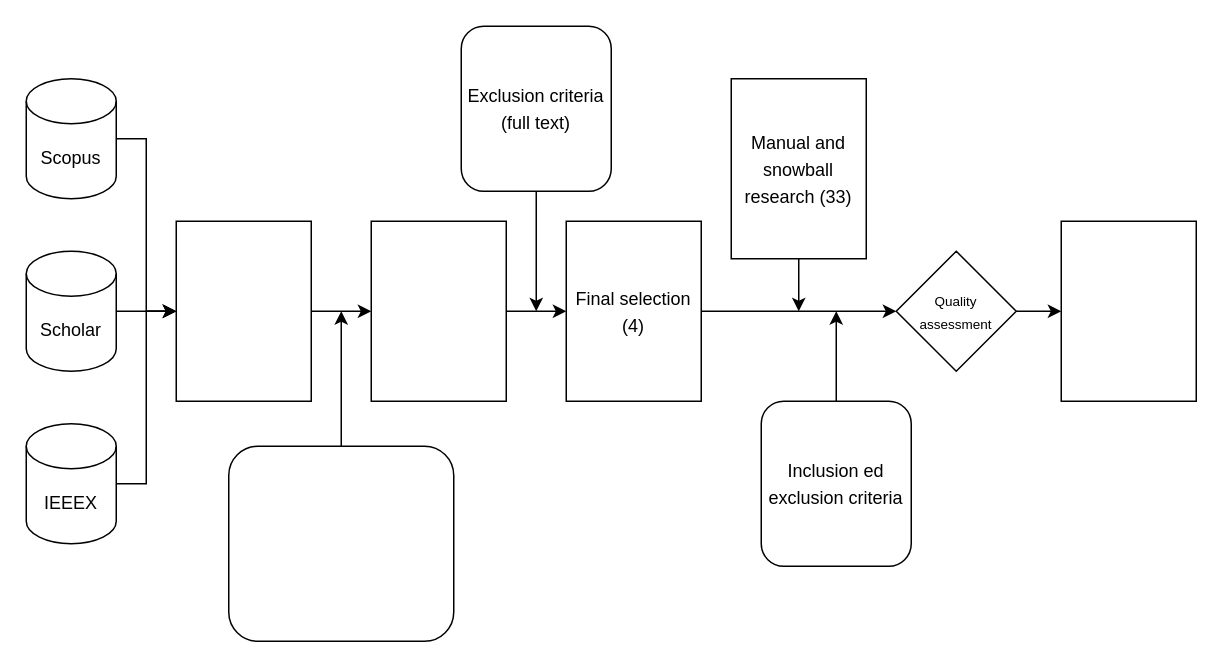
Some shapes in this 1223 by 668 pixel diagram are drawn without their labels. Here are the shapes that lost their labels. From the top down, the centre of each, then its label:
At [243,310]: "Downloaded articles (126)".
At [438,310]: "Initial selection (49)".
At [1128,310]: "Selected papers (7)".
At [340,543]: "Criteria for exclusion (title, abstract, keywords, languages, duplicates)".
